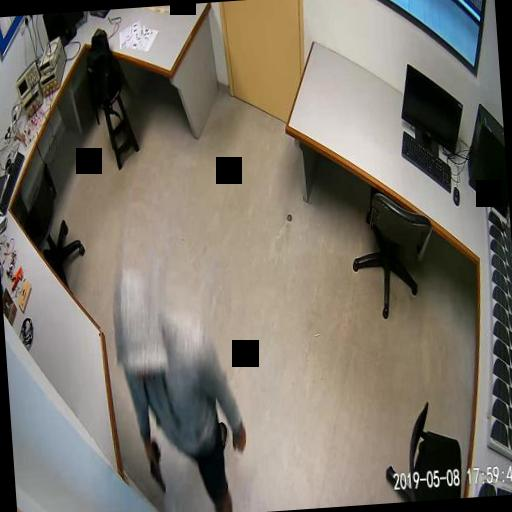Handgun: (146, 437, 166, 493)
